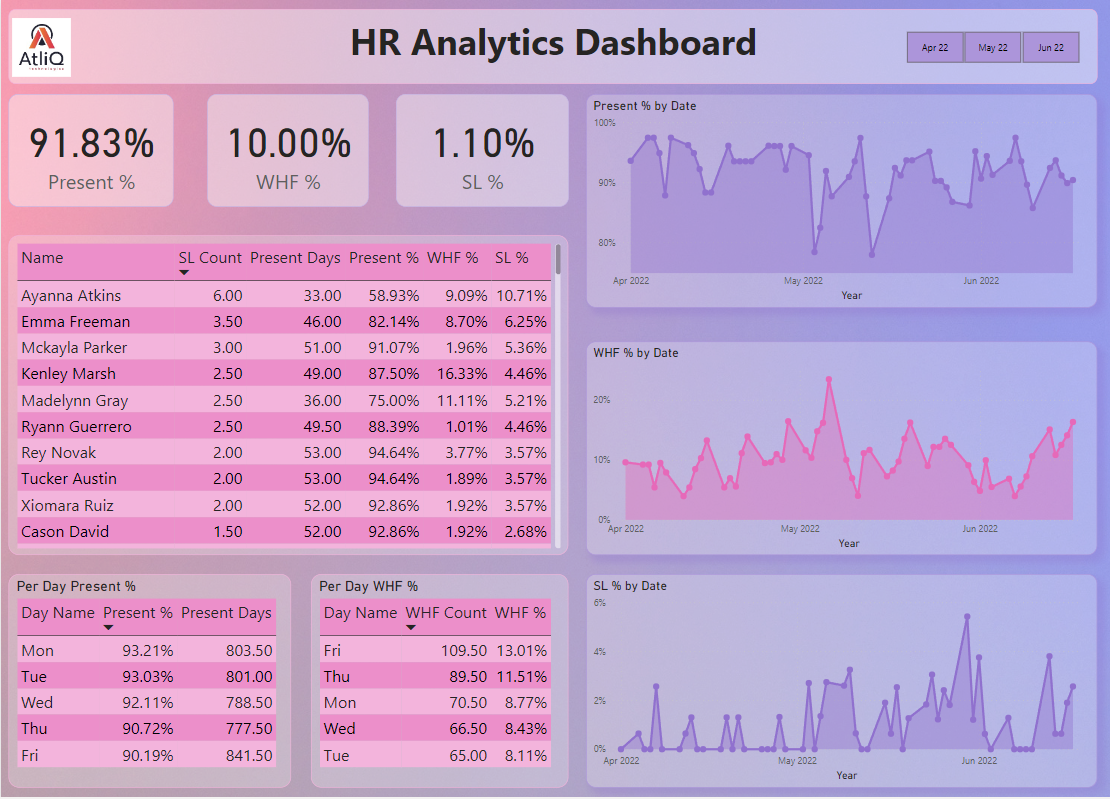

The dashboard page shown, as its layout file describes it:
{"tool":"powerbi","page":{"name":"Page 3","canvas":[1480,1077],"ordinal":0},"visuals":[{"type":"textbox","box":[10,13.3,1451.7,100],"z":0},{"type":"image","box":[10,15,88.3,98.3],"z":1},{"type":"slicer","fields":{"Values":["Final Data.Month"]},"box":[1181.7,36.7,280,55],"z":2},{"type":"card","fields":{"Values":["Measure Table.Present %"]},"box":[10,126.7,220,150],"z":3},{"type":"card","fields":{"Values":["Measure Table.WHF %"]},"box":[275,126.7,215,150],"z":4},{"type":"card","fields":{"Values":["Measure Table.SL %"]},"box":[526.7,126.7,230,150],"z":5},{"type":"stackedAreaChart","title":"Present % by Date","fields":{"Y":["Measure Table.Present %"],"Category":["Final Data.Date.Variation.Date Hierarchy.Year","Final Data.Date.Variation.Date Hierarchy.Quarter","Final Data.Date.Variation.Date Hierarchy.Month","Final Data.Date.Variation.Date Hierarchy.Day"]},"box":[780,126.7,681.7,285],"z":6},{"type":"stackedAreaChart","title":"WHF % by Date","fields":{"Y":["Measure Table.WHF %"],"Category":["Final Data.Date.Variation.Date Hierarchy.Year","Final Data.Date.Variation.Date Hierarchy.Quarter","Final Data.Date.Variation.Date Hierarchy.Month","Final Data.Date.Variation.Date Hierarchy.Day"]},"box":[780,456.7,681.7,285],"z":7},{"type":"stackedAreaChart","title":"SL % by Date","fields":{"Y":["Measure Table.SL %"],"Category":["Final Data.Date.Variation.Date Hierarchy.Year","Final Data.Date.Variation.Date Hierarchy.Quarter","Final Data.Date.Variation.Date Hierarchy.Month","Final Data.Date.Variation.Date Hierarchy.Day"]},"box":[780,766.7,681.7,285],"z":8},{"type":"tableEx","fields":{"Values":["Final Data.Name","Measure Table.SL Count","Measure Table.Present Days","Measure Table.Present %","Measure Table.WHF %","Measure Table.SL %"]},"box":[10,315,746.7,426.7],"z":9},{"type":"tableEx","title":"Per Day Present %","fields":{"Values":["Final Data.Day Name","Measure Table.Present %","Measure Table.Present Days"]},"box":[10,766.7,376.7,285],"z":10},{"type":"tableEx","title":"Per Day WHF %","fields":{"Values":["Final Data.Day Name","Measure Table.WHF Count","Measure Table.WHF %"]},"box":[413.3,766.7,343.3,285],"z":11}]}

Visuals, with their boxes in screenshot pixels (x1, y1, x2, y2), scaled from the page's 1480x1077 canvas onto the 1110x799 screenshot:
textbox: box=[8, 10, 1096, 84]
image: box=[8, 11, 74, 84]
slicer - Final Data.Month: box=[886, 27, 1096, 68]
card - Measure Table.Present %: box=[8, 94, 172, 205]
card - Measure Table.WHF %: box=[206, 94, 368, 205]
card - Measure Table.SL %: box=[395, 94, 568, 205]
"Present % by Date" stackedAreaChart: box=[585, 94, 1096, 305]
"WHF % by Date" stackedAreaChart: box=[585, 339, 1096, 550]
"SL % by Date" stackedAreaChart: box=[585, 569, 1096, 780]
tableEx - Final Data.Name x Measure Table.SL Count: box=[8, 234, 568, 550]
"Per Day Present %" tableEx: box=[8, 569, 290, 780]
"Per Day WHF %" tableEx: box=[310, 569, 567, 780]
